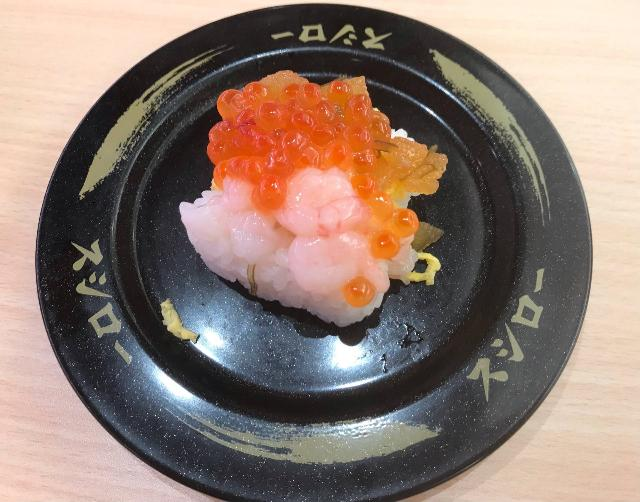janback: (89, 8, 576, 439)
